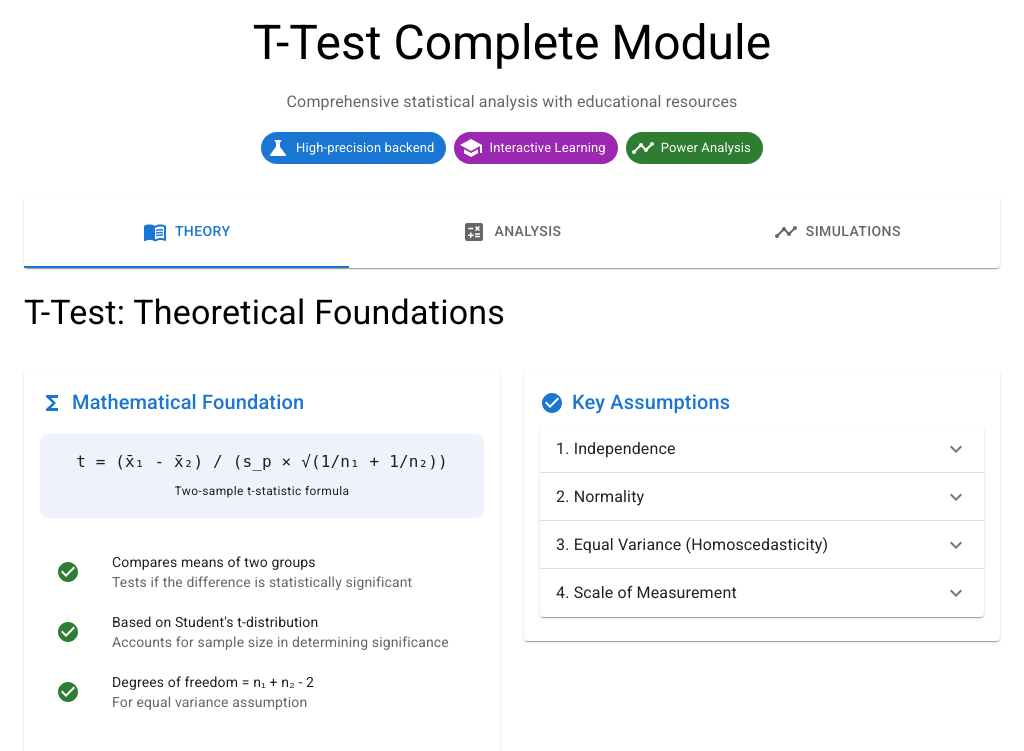
Test: a p-value below the range of a JavaScript number still prints its size
What coordinates should you click on to do the following:
click the tab "Analysis"
I would click on:
 (512, 232)
Its box is [349,196,675,268].
(page scrolled)
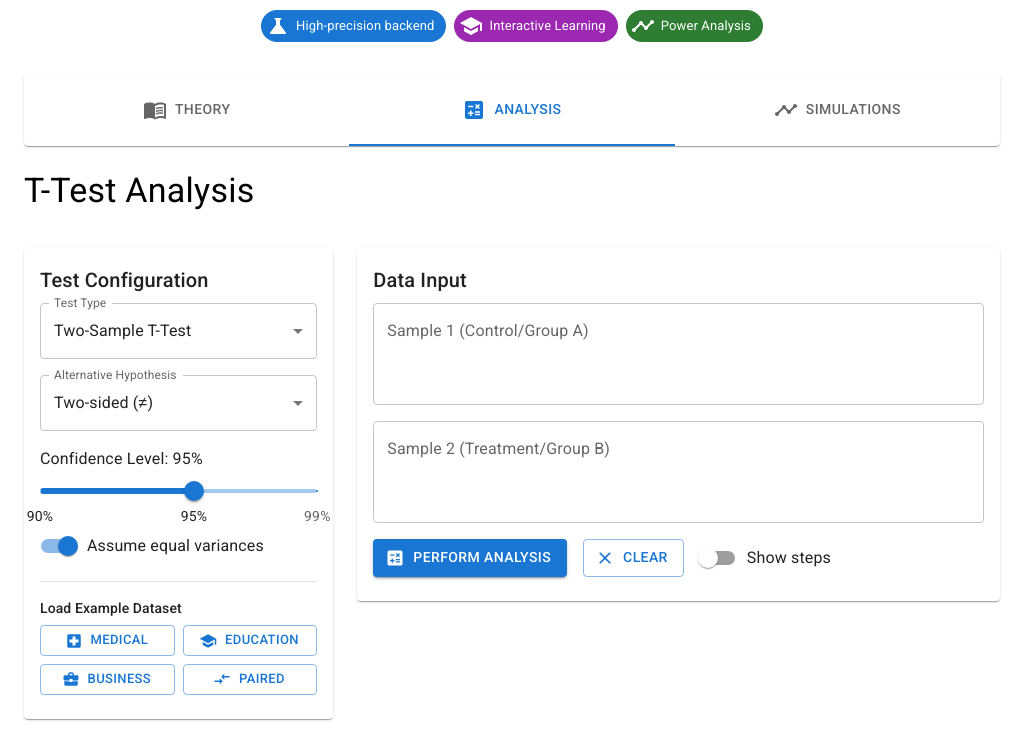
What coordinates should you click on to do the following:
click the button "Medical"
I would click on:
 (107, 641)
Its box is [40,625,175,656].
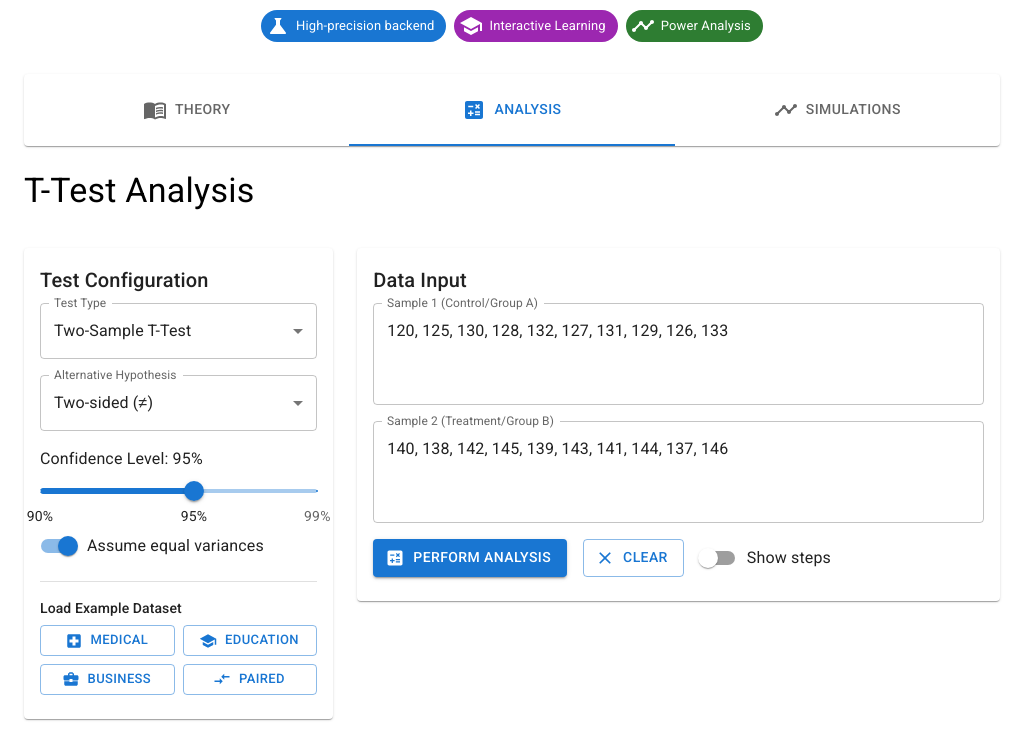
What coordinates should you click on to do the following:
click the button "Perform Analysis"
I would click on:
 (470, 558)
Its box is [373,539,567,577].
(page scrolled)
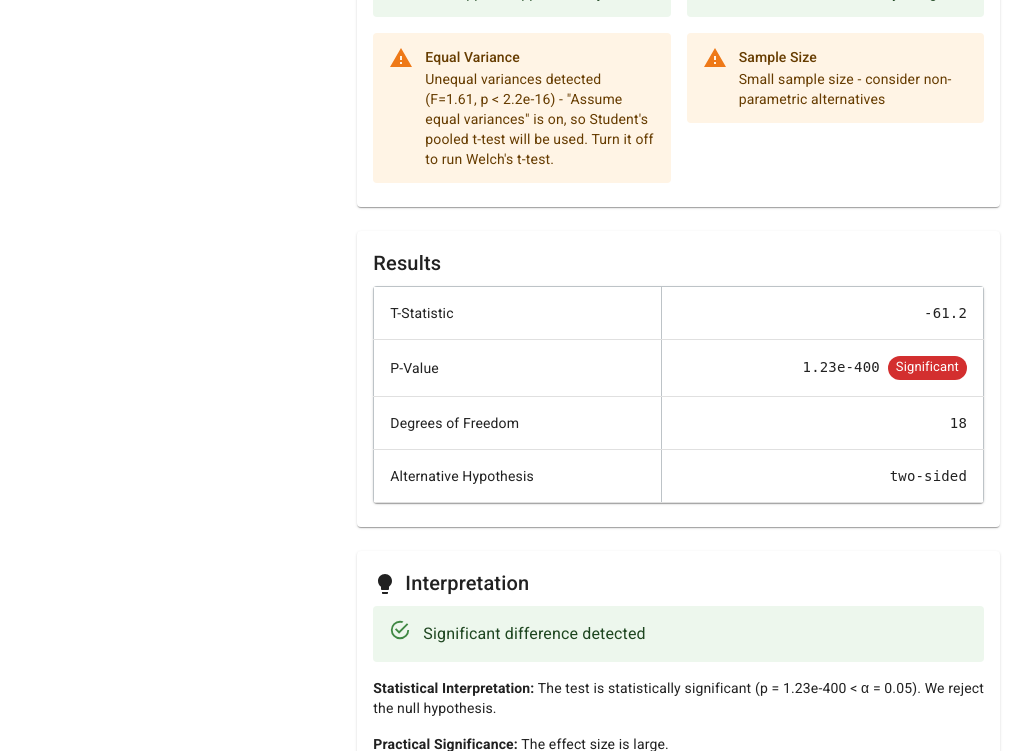
Expected: the text "The test is statistically significant (p = 1.23e-400 < α = 0.05)." is shown, [373,680,984,716]
Expected: the text "1.23e-400" is shown, [803,359,880,375]
